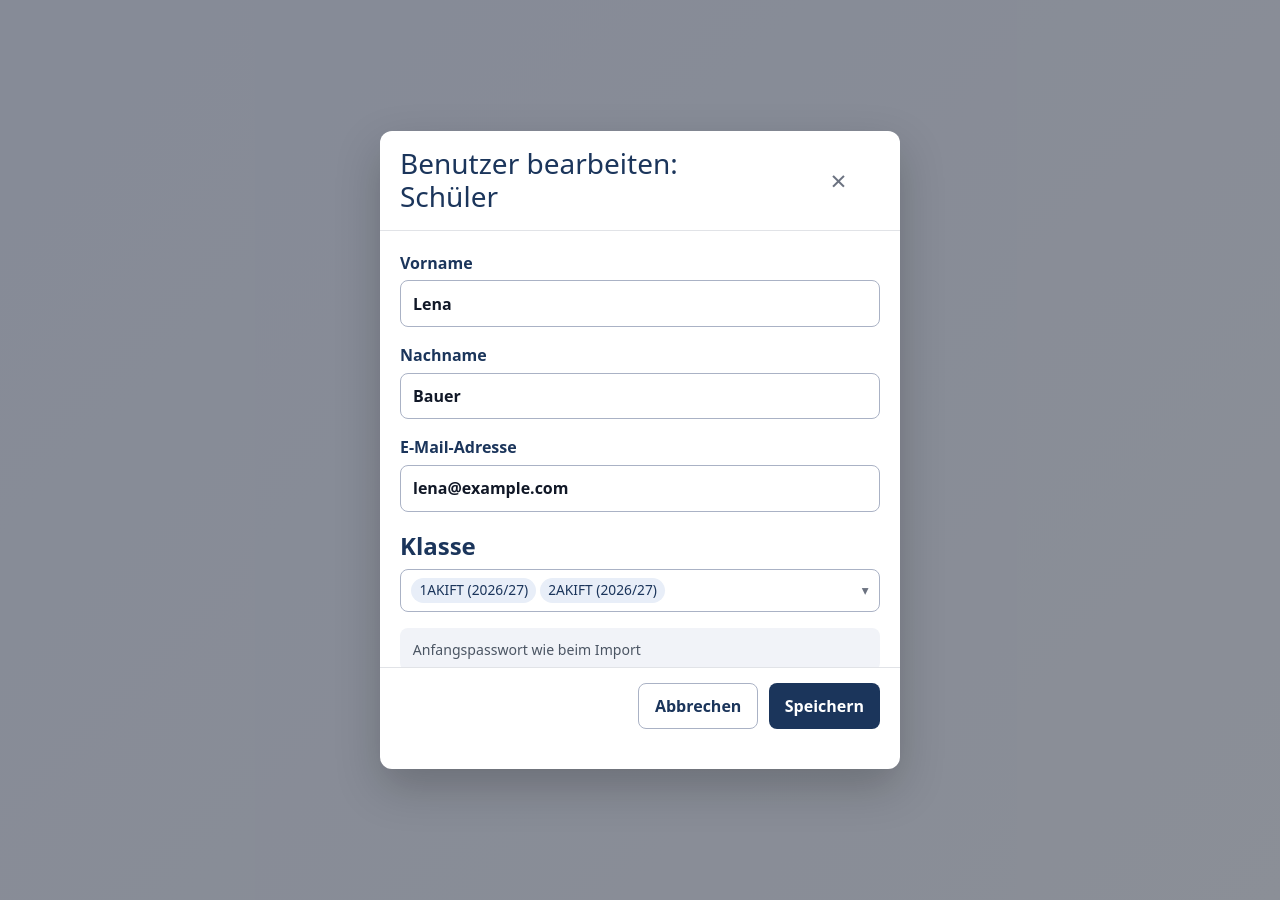
Test case: AdminUserModal › pre-fills all classes when editing a student
The image size is (1280, 900).
Click the button with aria-label "Klasse". click: click(640, 591)
box: [400,569,880,612]
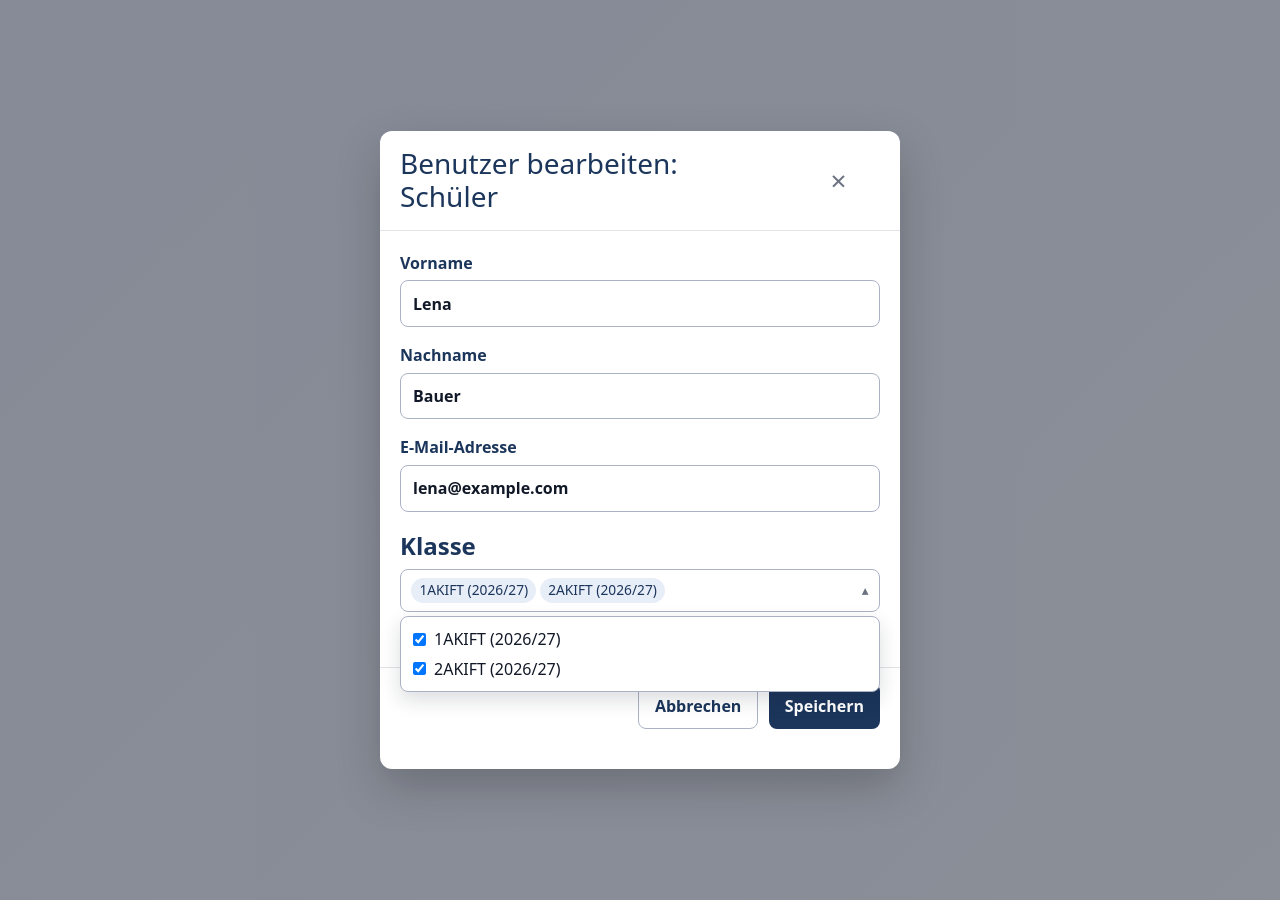
Expected: the checkbox labelled "1AKIFT (2026/27)" is checked, [413,633,426,646]
Expected: the checkbox labelled "2AKIFT (2026/27)" is checked, [413,662,426,675]
